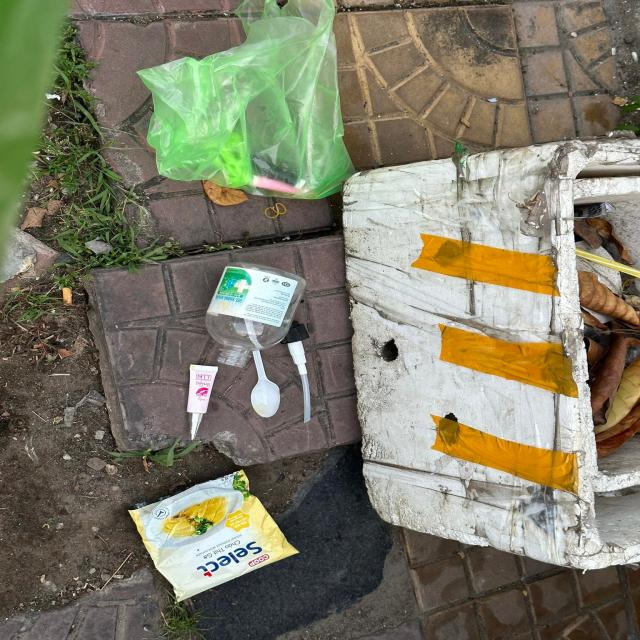bag: (137, 0, 357, 202)
bottle: (206, 263, 308, 369)
plastic utensil: (251, 351, 281, 417)
snack package: (130, 470, 298, 605)
